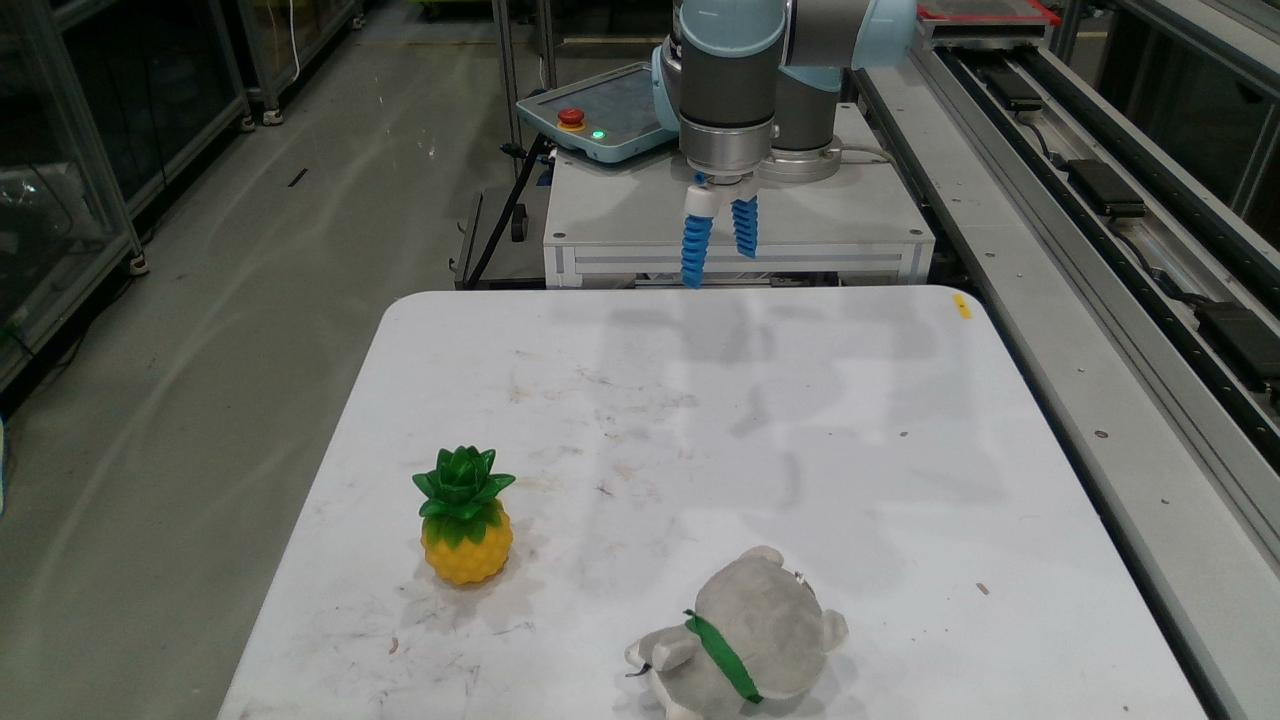UR5: (646, 2, 918, 215)
gripper_left: (682, 216, 710, 287)
gripper_right: (734, 197, 756, 255)
target: (628, 547, 846, 719), (414, 447, 510, 584)
